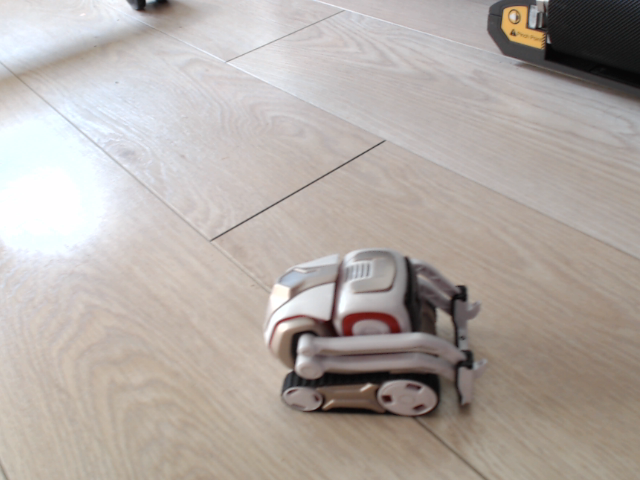cozmo: (260, 247, 487, 423)
